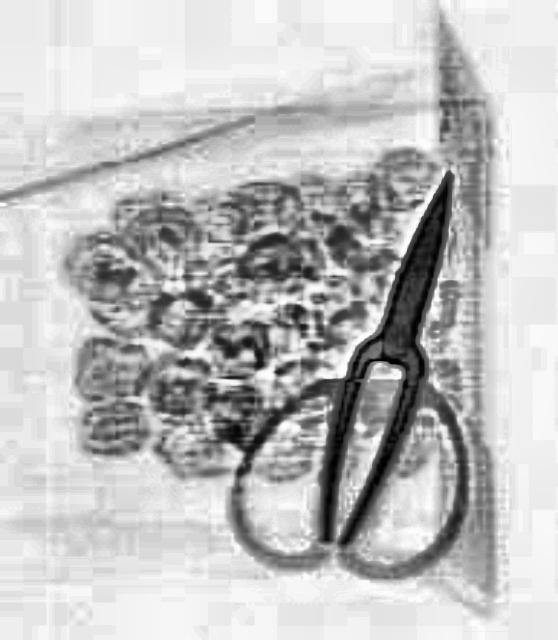Scissors: (208, 132, 556, 616)
